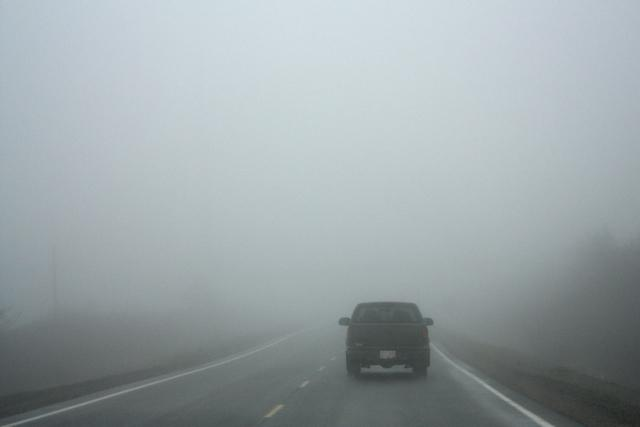car: (336, 300, 437, 377)
